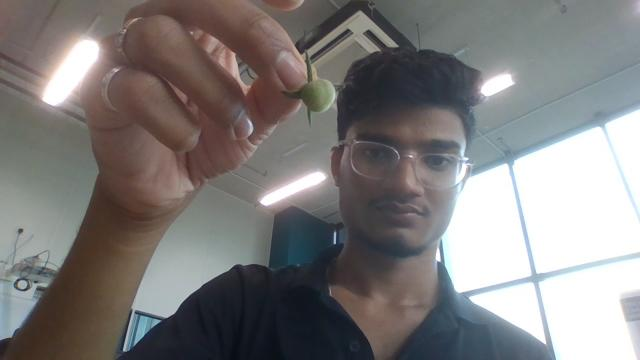Fruit Maturation: (301, 78, 337, 114)
